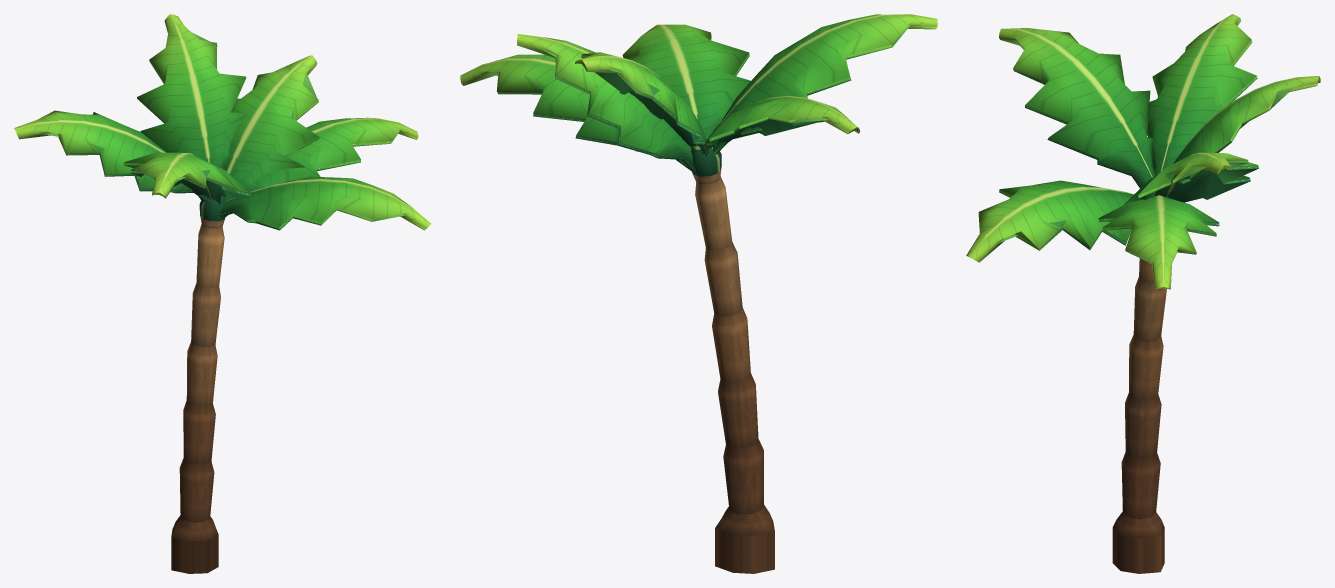
The model's file is Tree_Sapling_Palm_01.fbx.
3 renders of one model, left to right at view 1: azimuth 30°, elevation 25°; view 2: azimuth 150°, elevation 25°; view 3: azimuth 270°, elevation 25°, orthographic. The views are drawn at different scales.
Visible parts, largest first — view 1: Tree_Sapling_Palm_01; view 2: Tree_Sapling_Palm_01; view 3: Tree_Sapling_Palm_01.
Part boxes in pixels (left/top/right/bottom): Tree_Sapling_Palm_01: left=14, top=14, right=431, bottom=573; Tree_Sapling_Palm_01: left=460, top=14, right=937, bottom=573; Tree_Sapling_Palm_01: left=966, top=14, right=1320, bottom=573.
Size of the model in its own units: 1.78 by 2.2 by 1.35.
1 material, 1 textured.
